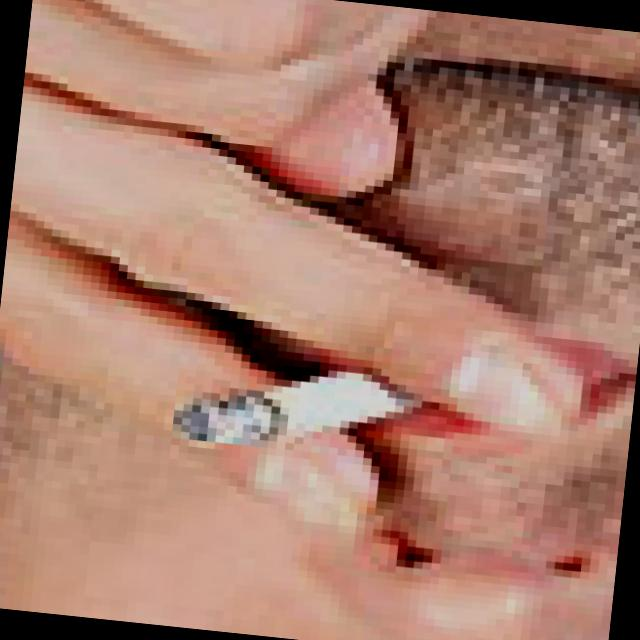smoke: (164, 331, 455, 472)
